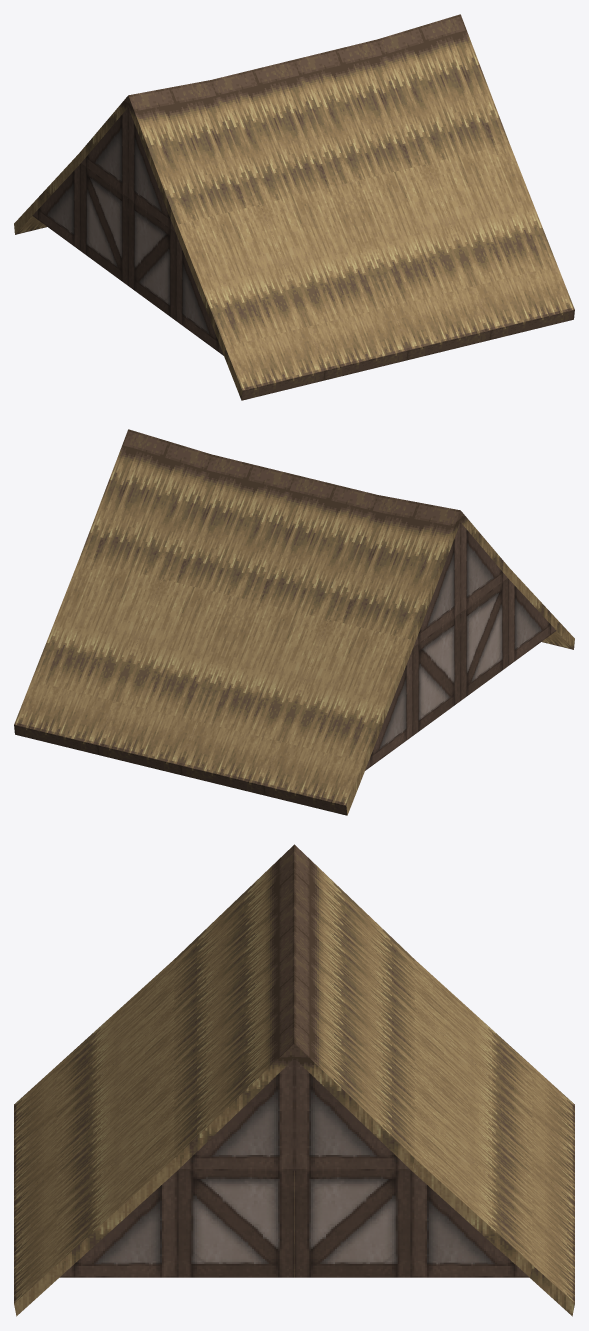
The model's file is roof_straw.glb.
3 views of the same model, one above another, from view 1: azimuth 30°, elevation 25°; view 2: azimuth 150°, elevation 25°; view 3: azimuth 270°, elevation 25° (orthographic). The views are drawn at different scales.
Visible parts, largest first — view 1: roof_straw; view 2: roof_straw; view 3: roof_straw.
Boxes of the visible parts, <box> form: roof_straw: <box>14,14,574,400</box>; roof_straw: <box>14,429,574,815</box>; roof_straw: <box>14,844,574,1316</box>.
Bounding box in the file's own units: 4 × 2.56 × 4.76.
Materials: 1 (1 with a texture image).
